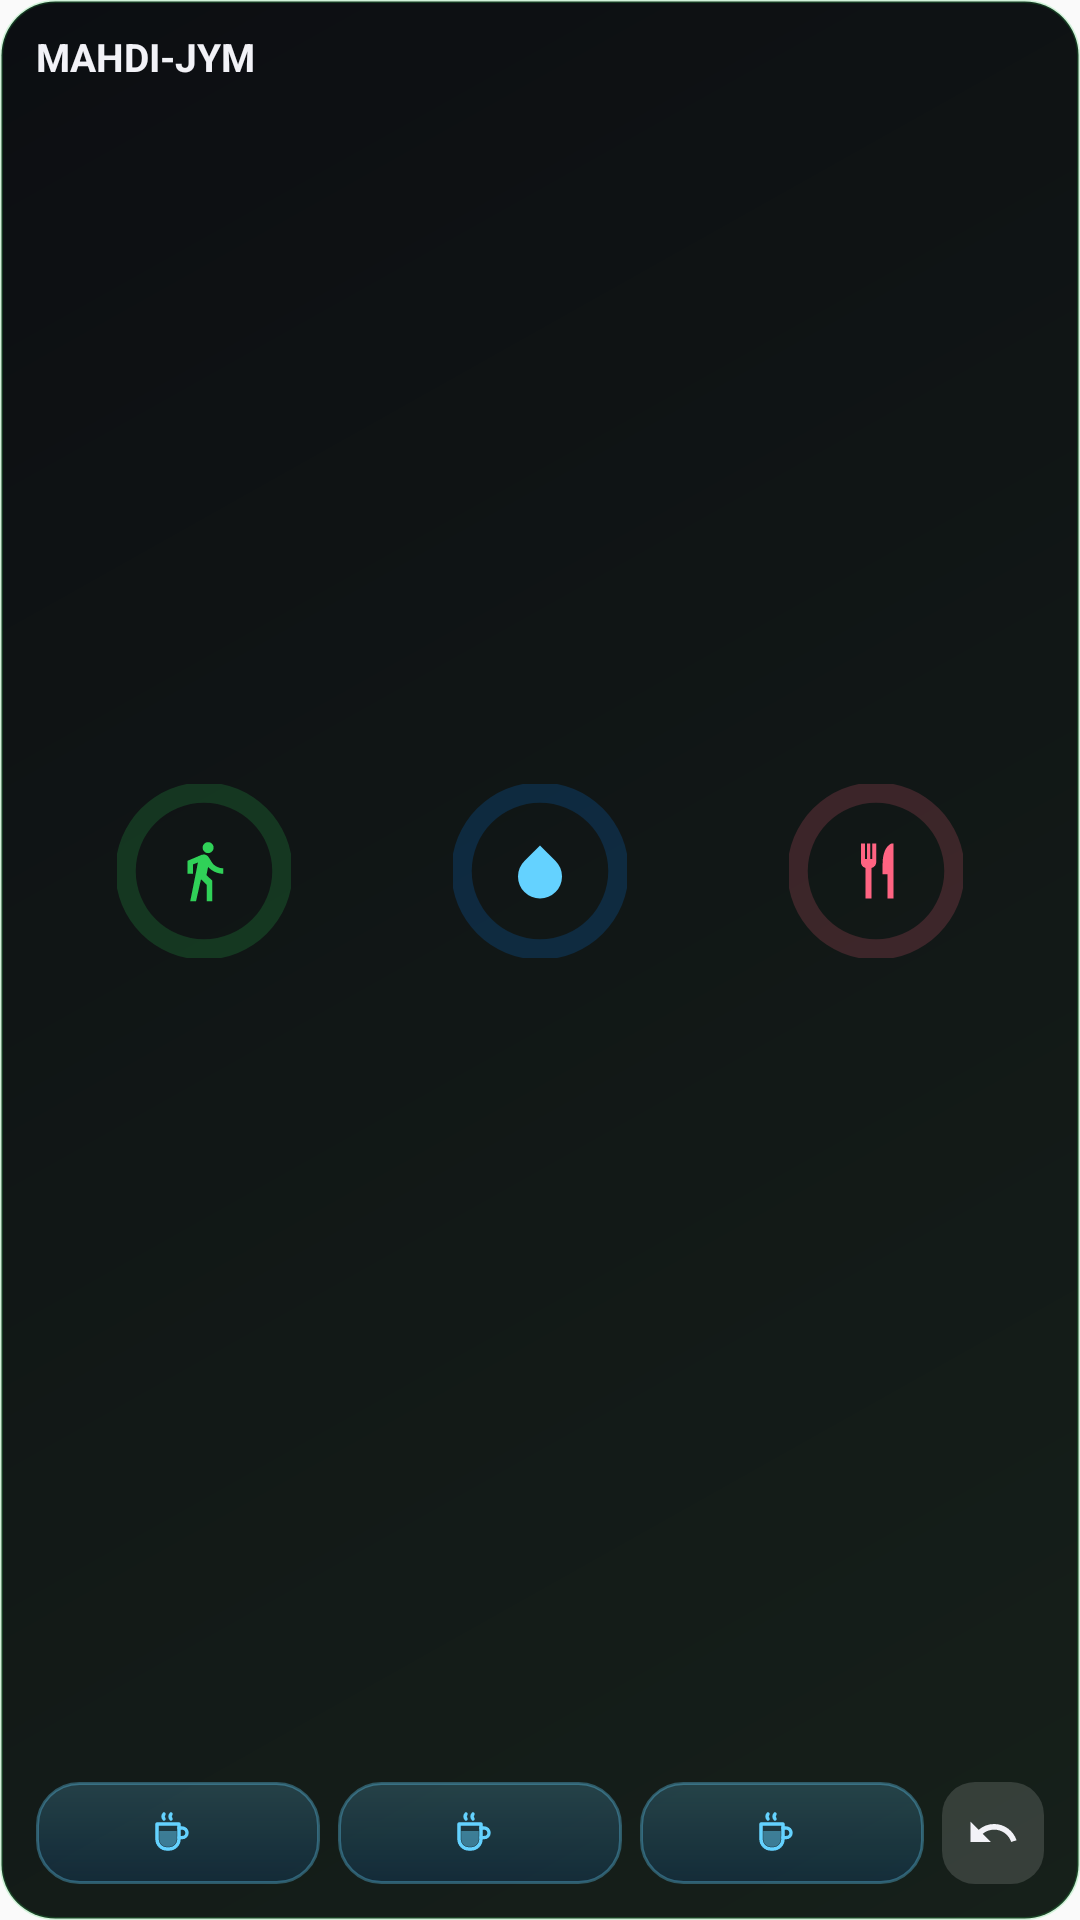

Named icons in this screenshot (1080px×1920px) and their bounding boxes, box=[x1, y1, x2, y2]:
cup: box=[155, 1812, 189, 1851], box=[457, 1812, 491, 1851], box=[759, 1812, 793, 1851]
drop: box=[518, 845, 562, 899]
food: box=[861, 843, 894, 899]
steps: box=[187, 842, 224, 902]
Undo: box=[942, 1782, 1044, 1884]
